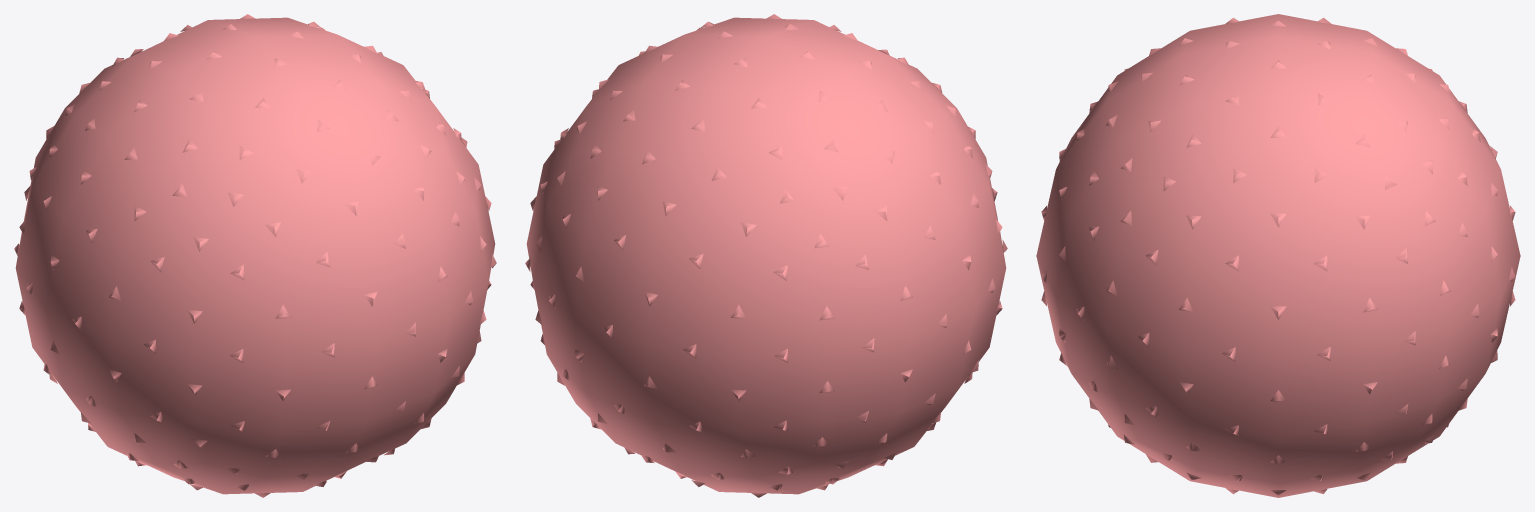
Rendered from Prize_SpikyGiantBall_Model.FBX.
3 renders of one model, left to right at view 1: azimuth 30°, elevation 25°; view 2: azimuth 150°, elevation 25°; view 3: azimuth 270°, elevation 25°, orthographic.
Parts seen in each view (by area): view 1: Baytekmall_SpikyGiantBall; view 2: Baytekmall_SpikyGiantBall; view 3: Baytekmall_SpikyGiantBall.
Part boxes in pixels (bbox=[...]): Baytekmall_SpikyGiantBall: bbox=[14, 14, 496, 497]; Baytekmall_SpikyGiantBall: bbox=[525, 14, 1007, 497]; Baytekmall_SpikyGiantBall: bbox=[1036, 14, 1520, 497].
Size of the model in its own units: 24.8 by 24.8 by 24.8.
